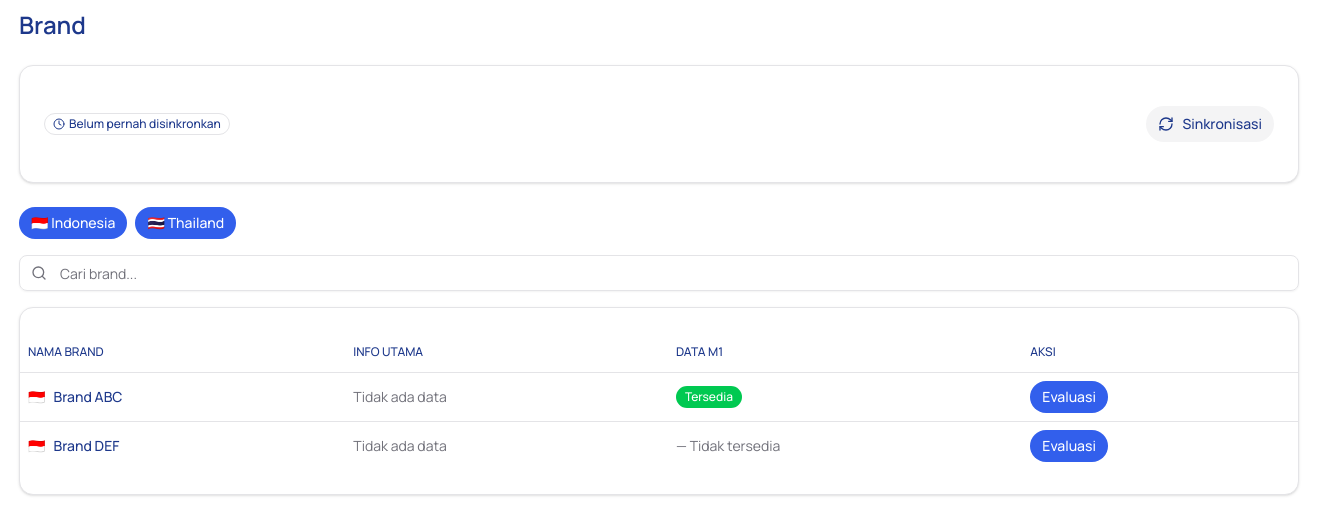
it: BrandsPage › shows no results message when search has no matches
Type "nonexistent" into the search field with placeholder "Cari brand...".
click(659, 273); type("nonexistent")  # box top-left (19, 255), bottom-right (1299, 291)
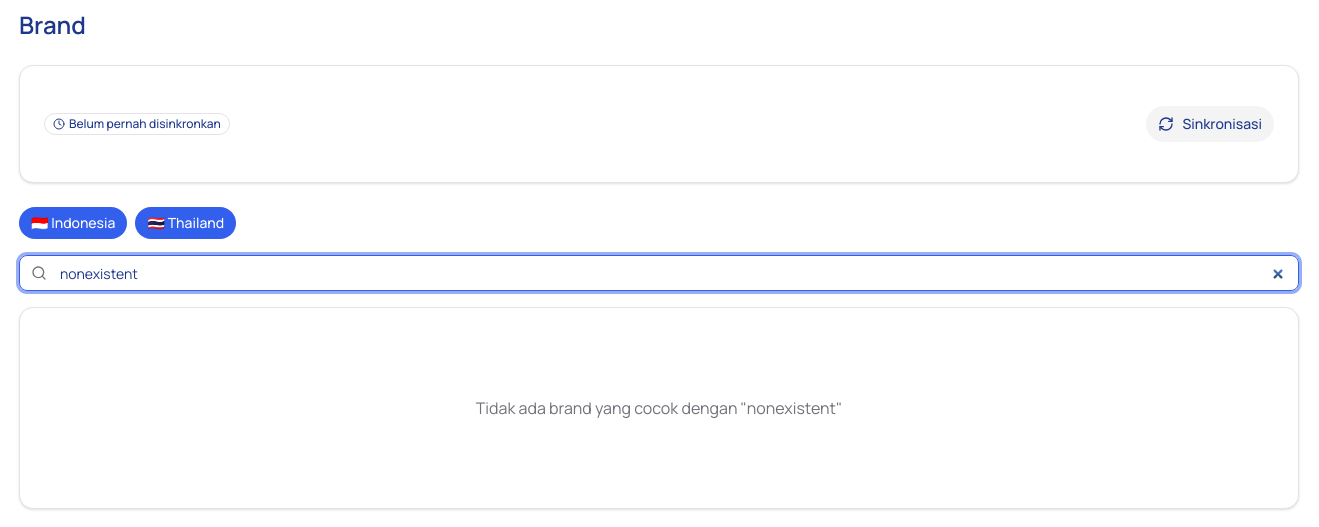
Check: the text "Tidak ada brand yang cocok dengan \"nonexistent\"" is shown, box top-left (476, 397), bottom-right (842, 419)
